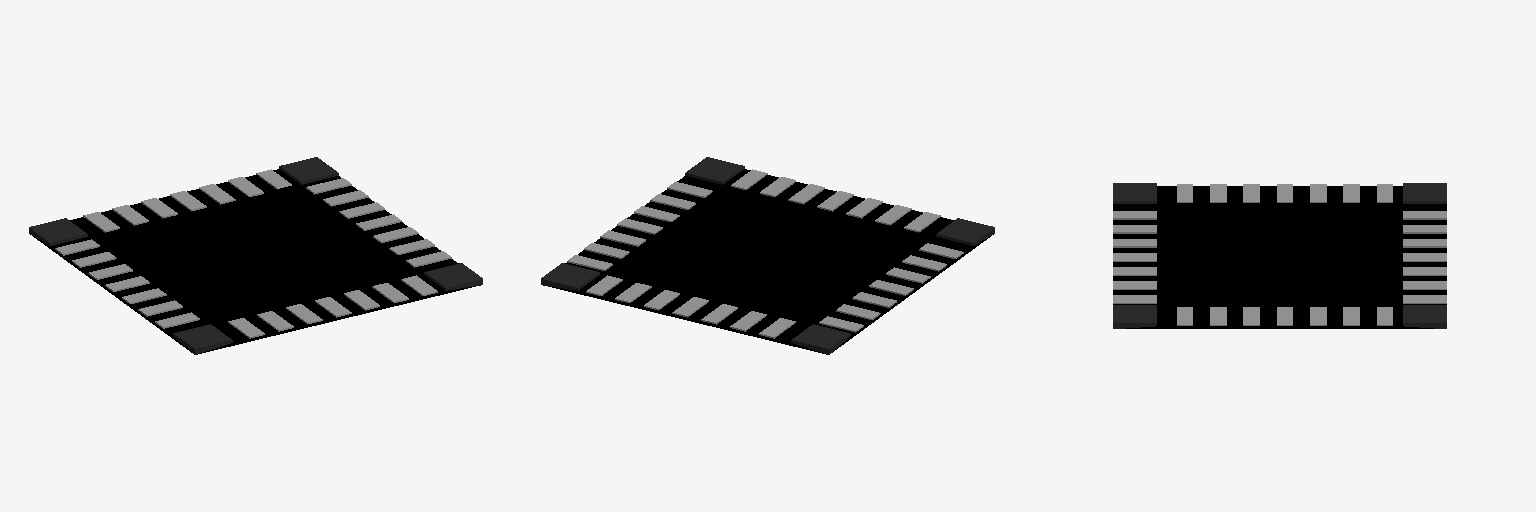
The model's file is road3.obj.
3 renders of one model, left to right at view 1: azimuth 30°, elevation 25°; view 2: azimuth 150°, elevation 25°; view 3: azimuth 270°, elevation 25°, orthographic.
Visible parts, largest first — view 1: Peça6; view 2: Peça6; view 3: Peça6.
Part boxes in pixels (left/top/right/bottom): Peça6: left=29, top=157, right=482, bottom=354; Peça6: left=541, top=157, right=994, bottom=354; Peça6: left=1113, top=183, right=1446, bottom=328.
Size of the model in its own units: 1 by 0.02 by 1.